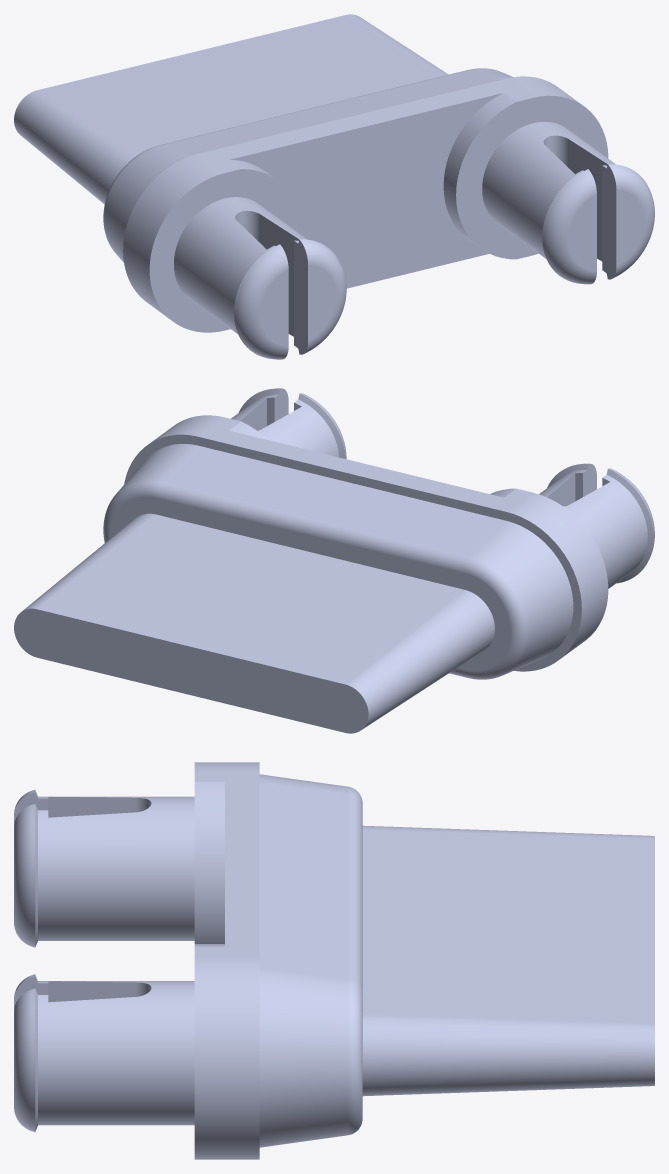
3 renders of one model, top to bottom at view 1: azimuth 30°, elevation 25°; view 2: azimuth 150°, elevation 25°; view 3: azimuth 270°, elevation 25°, orthographic. The views are drawn at different scales.
Parts seen in each view (by area): view 1: NAUO1, NAUO2; view 2: NAUO2, NAUO1; view 3: NAUO2, NAUO1.
Boxes of the visible parts, <box> form: NAUO1: <box>123,76,654,359</box>; NAUO2: <box>14,14,512,262</box>; NAUO2: <box>14,444,573,733</box>; NAUO1: <box>124,388,654,671</box>; NAUO2: <box>259,774,654,1147</box>; NAUO1: <box>14,762,259,1159</box>.
Bounding box in the file's own units: 0.0189 × 0.0062 × 0.0186.
